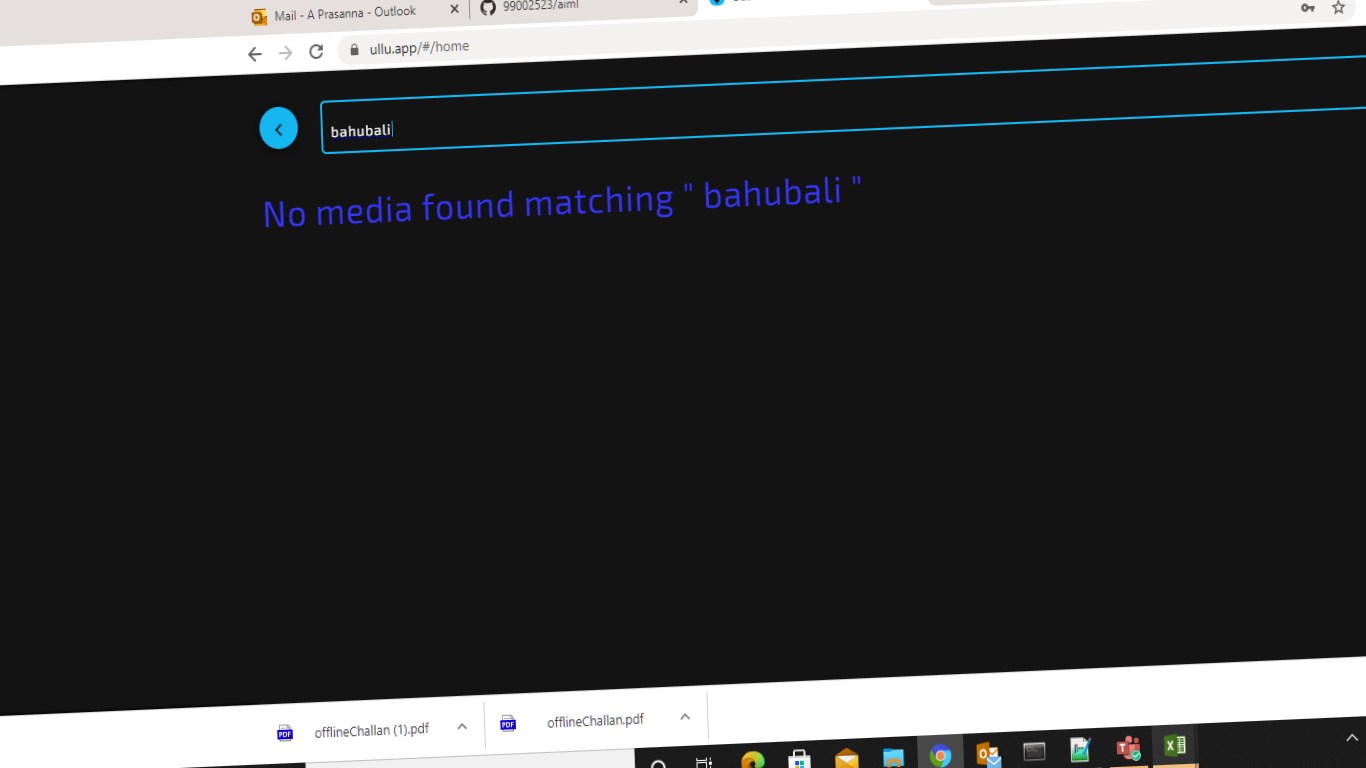backbutton: (248, 102, 307, 153)
noresultsfound: (252, 165, 889, 245)
searchtextbox: (319, 53, 1363, 157)
